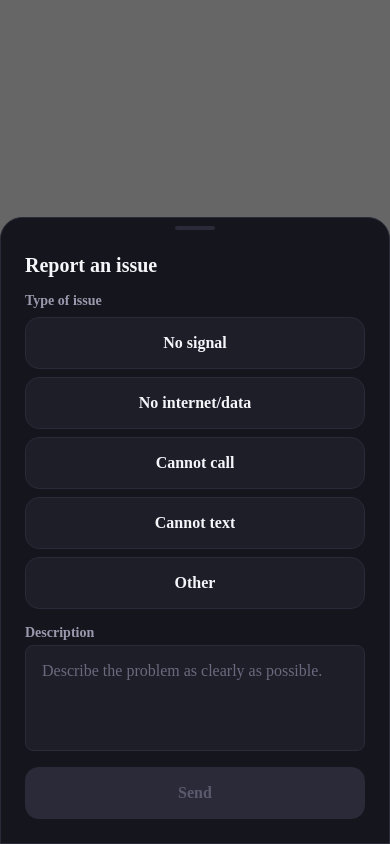
Test: CreateTicketSheet › blocks submit for a non-"anders" type without a SIM
The width and height of the screenshot is (390, 844).
Click the button "No internet/data" at (195, 403), box [25,377,365,429]
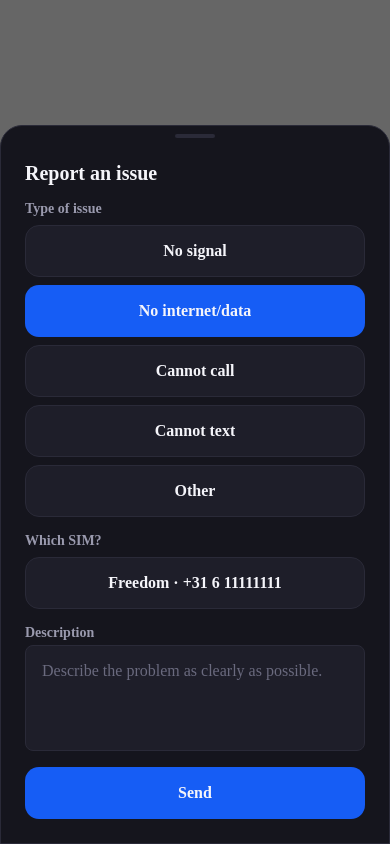
Type "no data anywhere" into the text box with placeholder "Describe the problem as clearly as possible." at (195, 698), box [25,645,365,751]
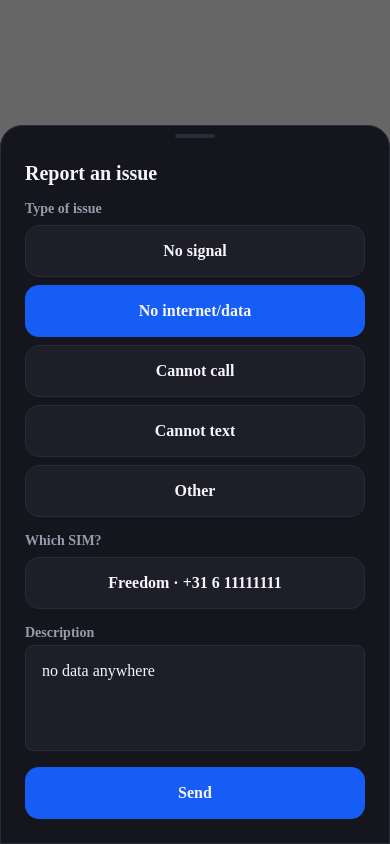
Click the button "Send" at (195, 793), box [25,767,365,819]
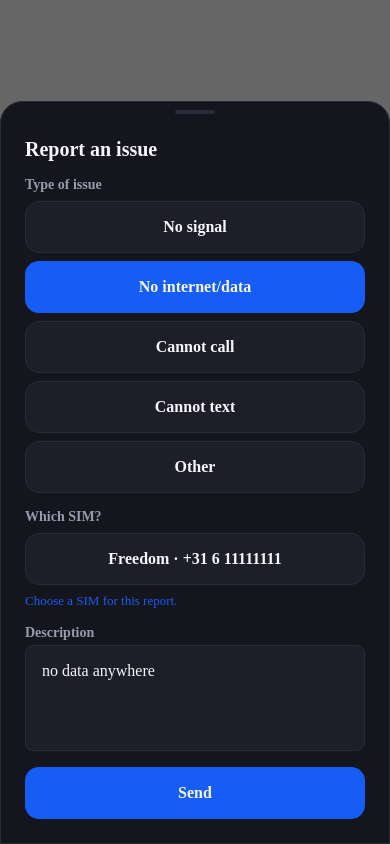
Check: the text "Choose a SIM for this report." is shown, box [25,593,177,608]
